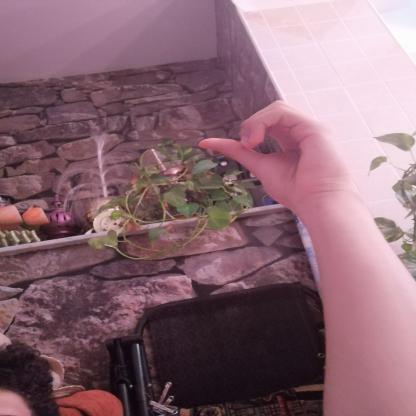WAW: (186, 92, 375, 228)
